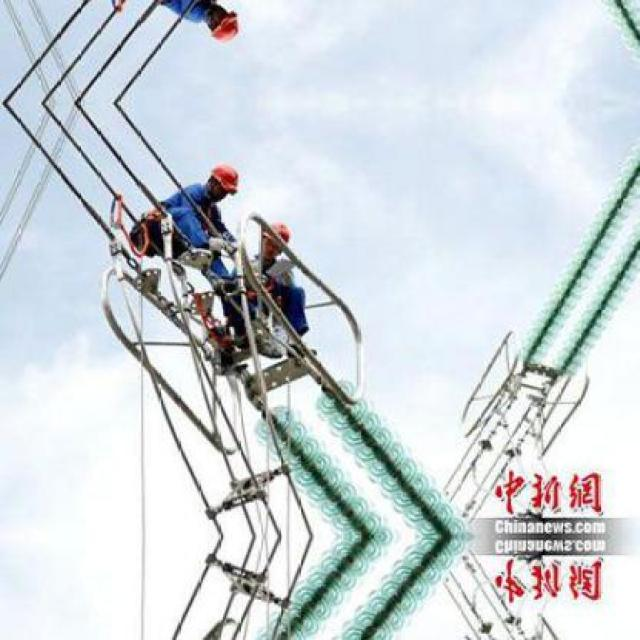helmet: (212, 157, 242, 196), (261, 220, 296, 248), (214, 12, 240, 42)
